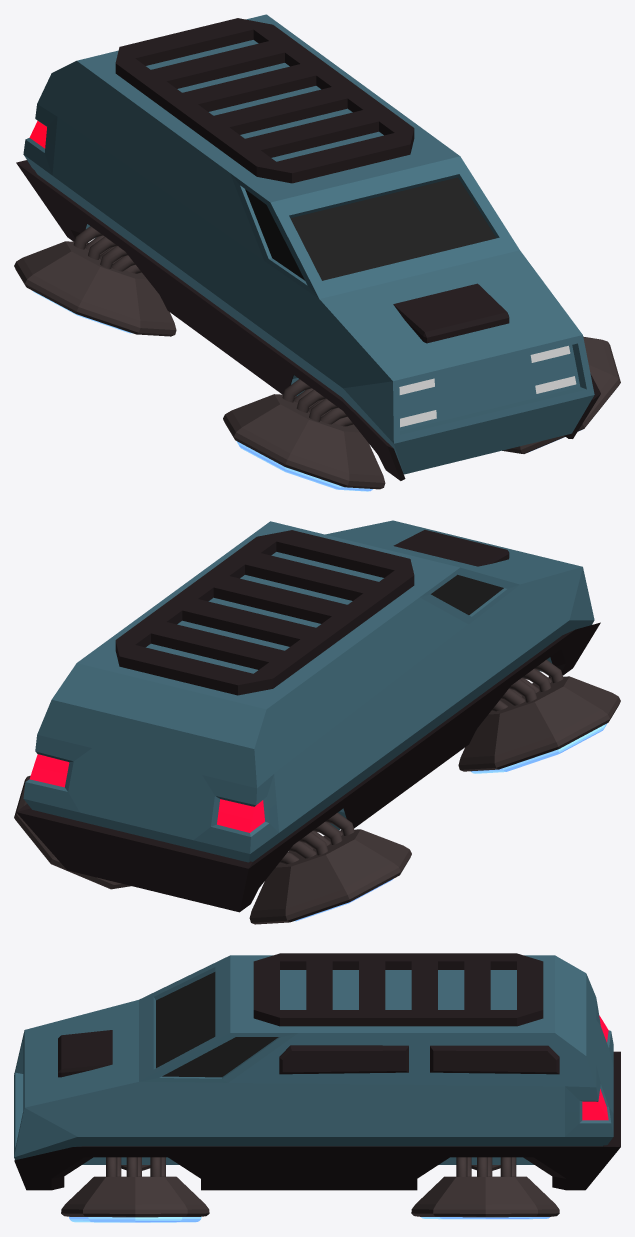
Rendered from car5.fbx.
3 views of the same model, one above another, from view 1: azimuth 30°, elevation 25°; view 2: azimuth 150°, elevation 25°; view 3: azimuth 270°, elevation 25° (orthographic). The views are drawn at different scales.
Visible parts, largest first — view 1: Cube.009; view 2: Cube.009; view 3: Cube.009.
Part boxes in pixels (x1=…): Cube.009: x1=14, y1=14, x2=620, y2=491; Cube.009: x1=14, y1=520, x2=620, y2=924; Cube.009: x1=14, y1=953, x2=620, y2=1222.
Size of the model in its own units: 272 by 173 by 452.
